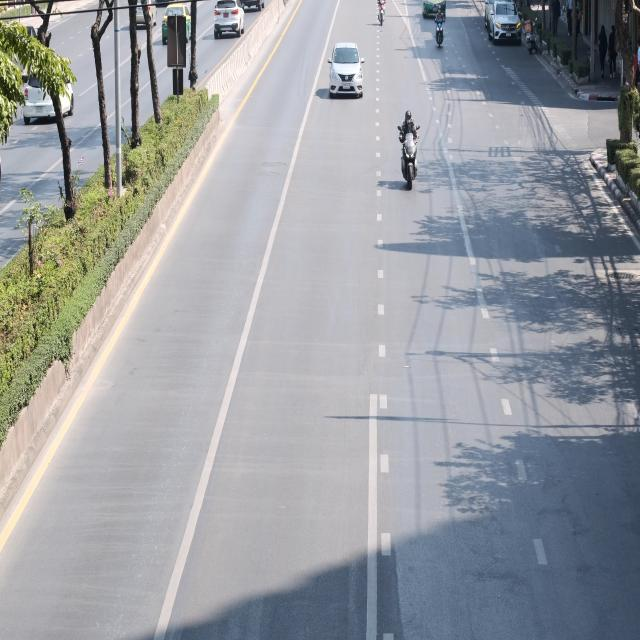cars: (19, 61, 77, 128), (324, 37, 366, 101), (484, 0, 522, 47), (160, 0, 192, 44), (211, 0, 245, 37), (130, 0, 158, 30), (482, 0, 506, 31), (421, 0, 446, 22)
motorcycle: (396, 104, 426, 198), (522, 11, 542, 64), (432, 4, 448, 59), (376, 0, 390, 32)
